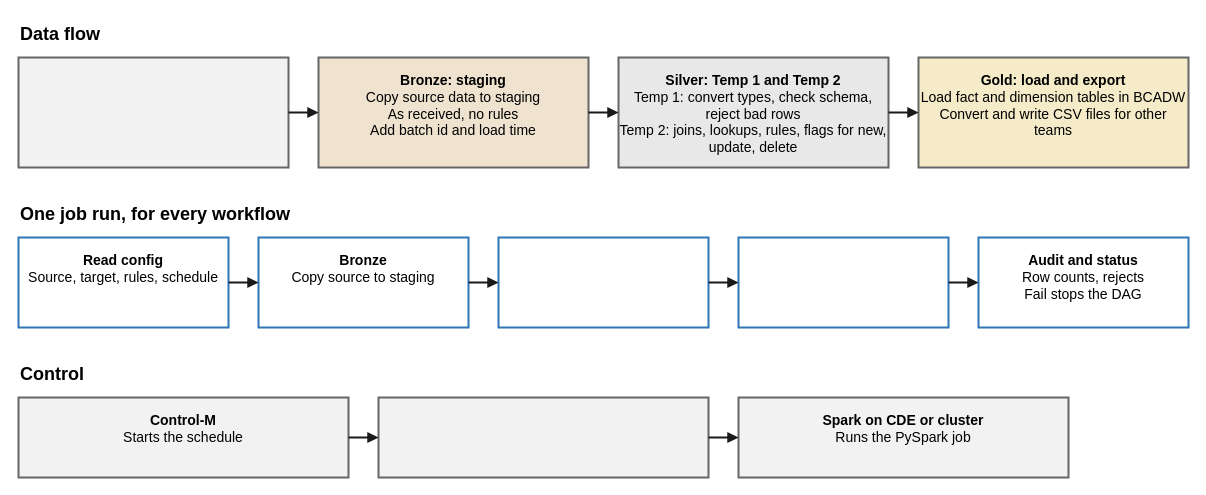
The diagram is 1206 pixels wide and 495 high, and some of its shapes have lost their labels. Each missing label, with the centre of its shape:
"Airflow Runs the DAG, holds logs and retries" belongs at pixel 543 437.
"Gold Load tables, write CSV files" belongs at pixel 843 282.
"Silver Run Temp 1, then Temp 2" belongs at pixel 603 282.
"Sources Avro and Hive Flat files Tables" belongs at pixel 153 112.
